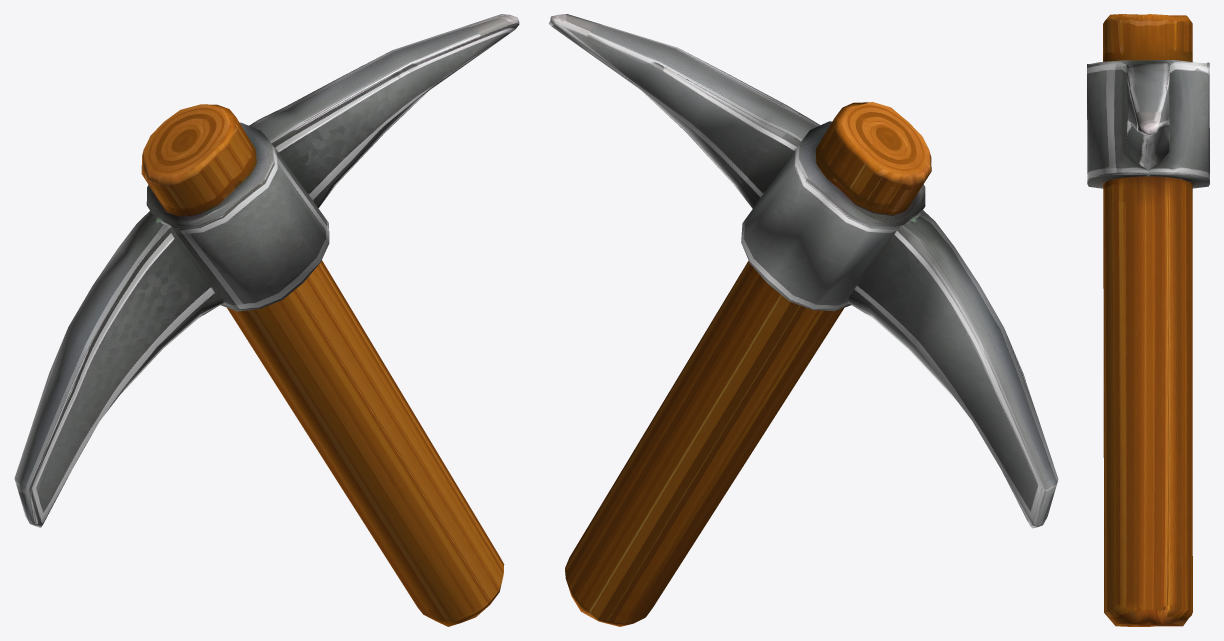
File: Meshy_AI_Pickaxe_0714134750_texture.fbx
3 renders of one model, left to right at view 1: azimuth 30°, elevation 25°; view 2: azimuth 150°, elevation 25°; view 3: azimuth 270°, elevation 25°, orthographic. The views are drawn at different scales.
Parts seen in each view (by area): view 1: Mesh_0; view 2: Mesh_0; view 3: Mesh_0.
Boxes of the visible parts, x1,y1,x2,y2 form: Mesh_0: (14, 14, 519, 626); Mesh_0: (548, 14, 1058, 626); Mesh_0: (1087, 14, 1209, 626).
Bounding box in the file's own units: 89.43 × 100 × 20.74.
Materials: 1 (1 with a texture image).
